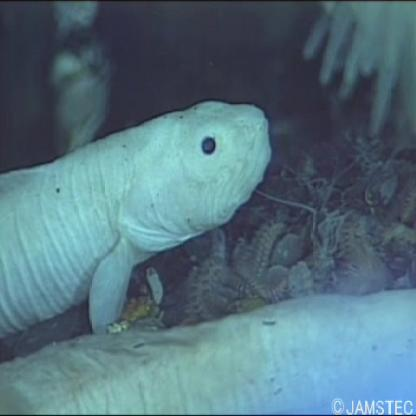Bio: (1, 91, 277, 346)
